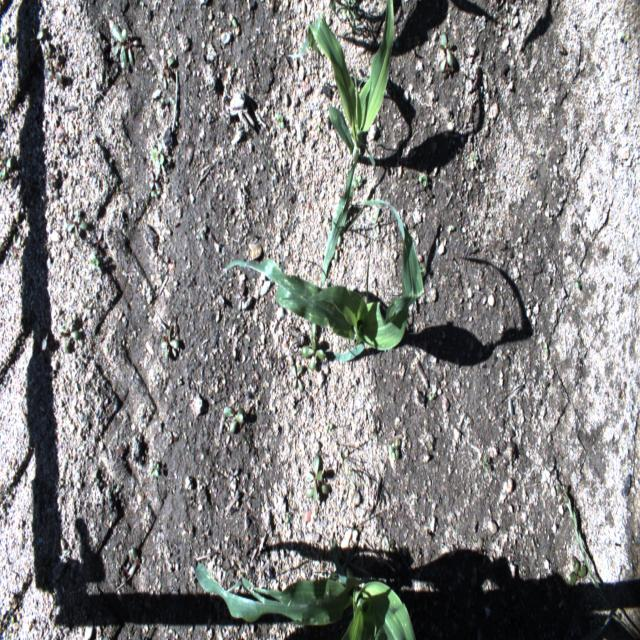crop: (218, 200, 424, 364), (286, 0, 394, 286), (196, 540, 418, 640)
weed: (566, 496, 637, 640), (304, 453, 331, 502), (112, 21, 138, 70), (299, 328, 326, 373), (158, 319, 179, 362), (58, 311, 79, 352), (64, 207, 88, 240), (222, 405, 246, 436), (44, 48, 62, 86), (565, 562, 586, 588), (441, 32, 453, 73), (341, 0, 356, 29), (0, 149, 12, 185), (150, 141, 164, 171), (292, 364, 304, 396), (90, 228, 107, 250), (555, 483, 570, 505), (388, 437, 400, 461), (87, 251, 99, 275), (149, 460, 161, 480), (228, 12, 239, 30), (385, 538, 394, 558), (471, 149, 479, 170), (276, 110, 284, 130), (481, 453, 488, 475), (418, 172, 427, 188), (427, 390, 436, 402), (449, 223, 456, 233)
